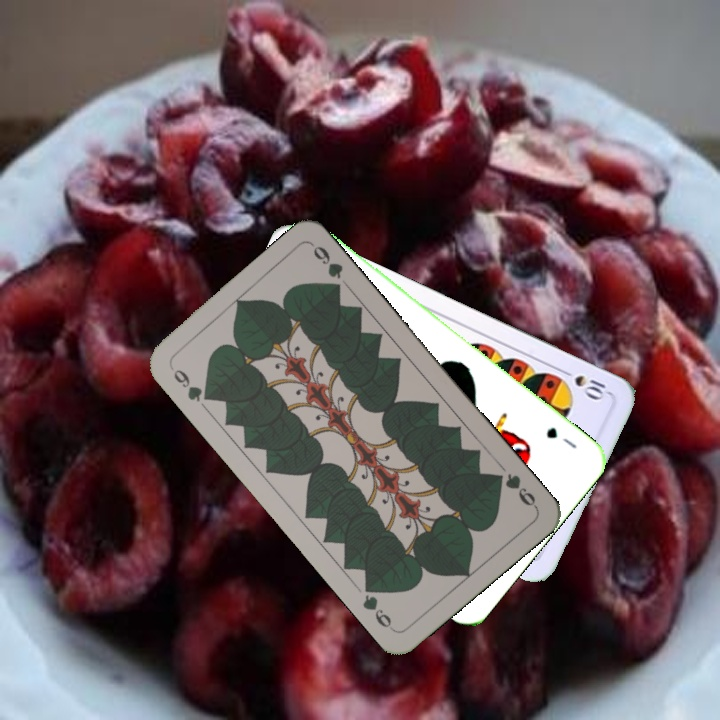G9: (489, 469, 540, 511), (166, 362, 216, 404)
GU: (542, 423, 580, 451)
S10: (556, 364, 611, 403)
